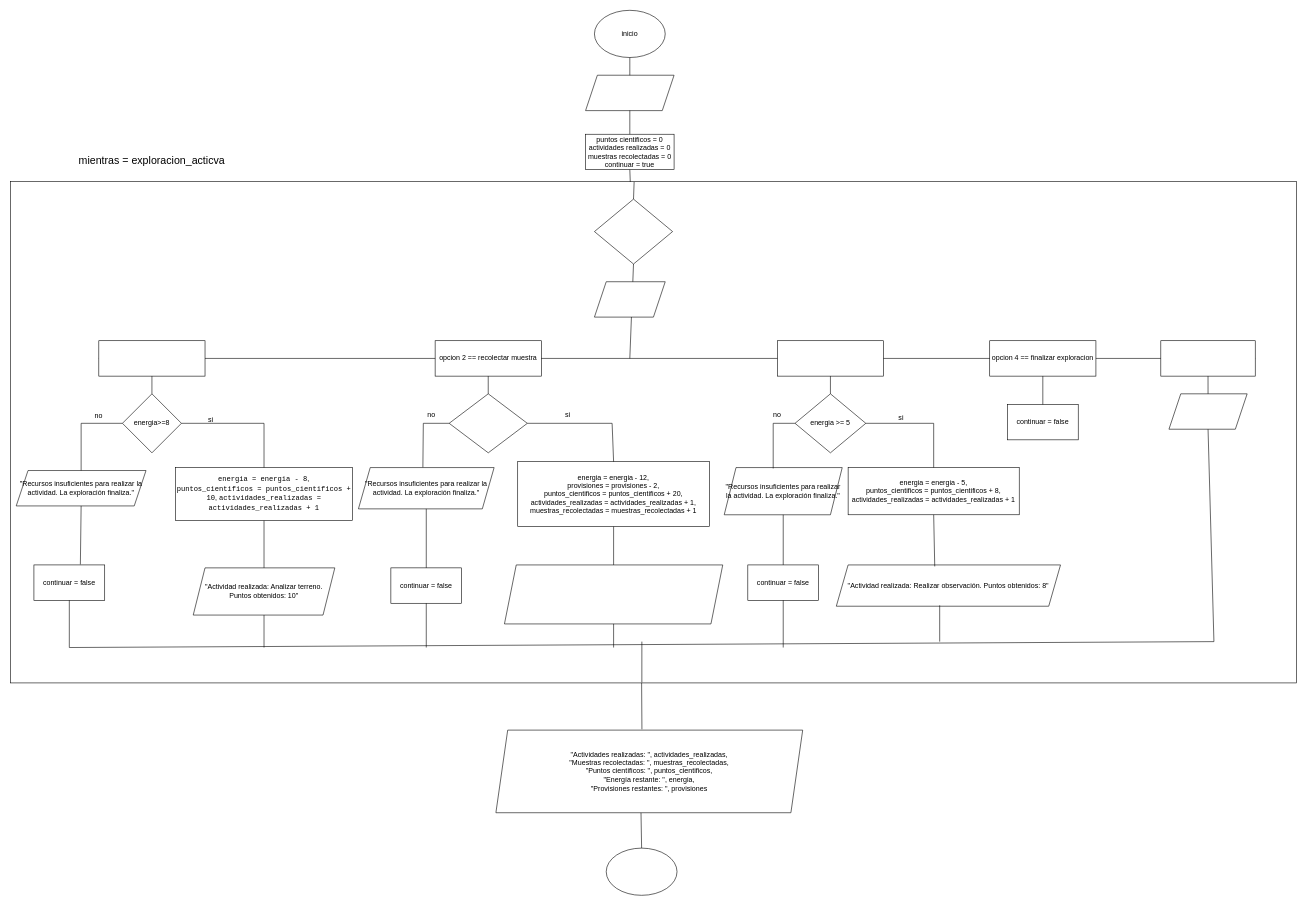
The diagram is 1307 pixels wide and 906 high, and some of its shapes have lost their labels. The shapes that lost their labels are listed below. From the top down, each one's centre as x and y in pixels, then its label:
point 629,93: Leer energia,provisiones
point 633,231: mientras continuar ==true
point 629,299: leer opcion
point 151,358: opcion 1 == analizar terreno
point 830,358: opcion 3 == realizar observacion
point 1207,358: opcion 5 == invalida
point 488,423: energia >= 12 AND provisiones >= 2
point 1207,411: "opcion no valida"
point 613,594: "Actividad realizada: Recolectar muestra. Puntos obtenidos: 20"
point 641,871: ffin
